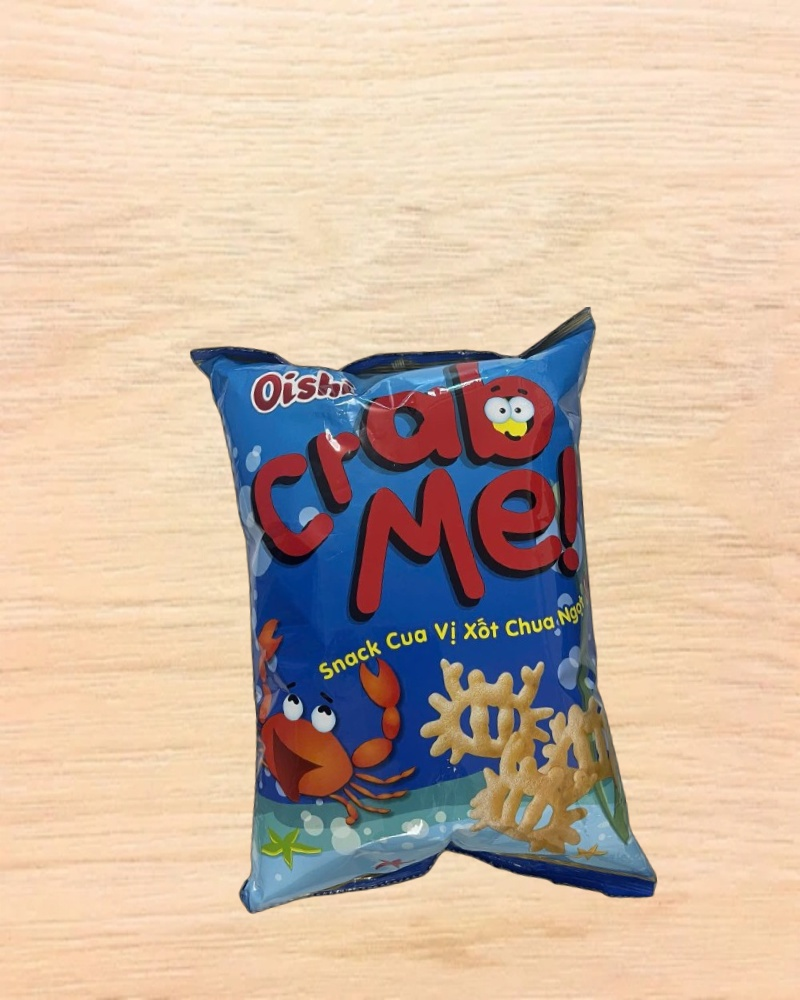Snack cua: (190, 306, 658, 927)
